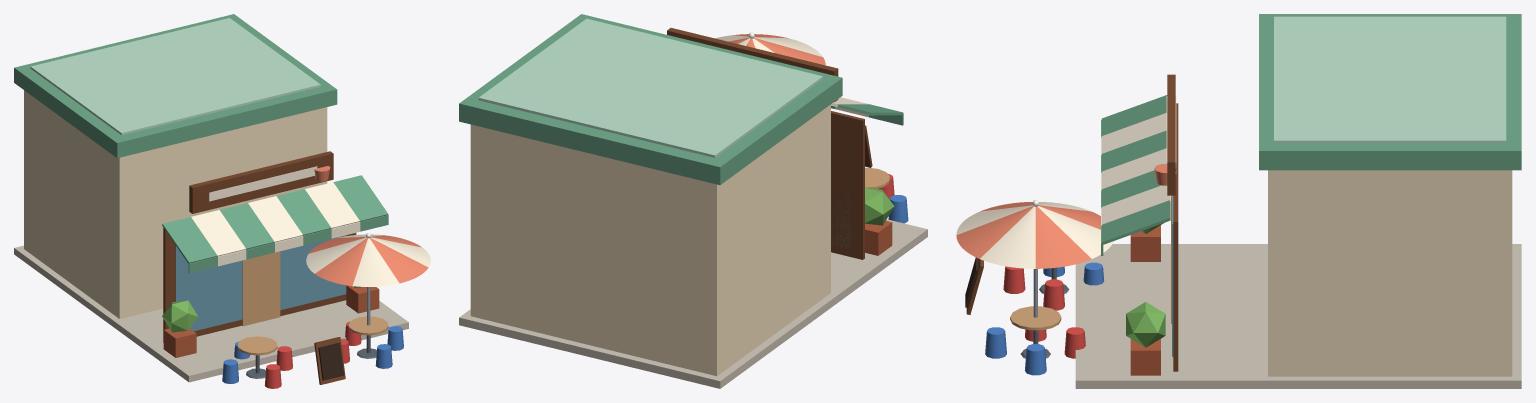
File: cafe-01.glb
The picture shows the model from 3 angles, left to right: view 1: azimuth 30°, elevation 25°; view 2: azimuth 150°, elevation 25°; view 3: azimuth 270°, elevation 25°; orthographic projection. The views are drawn at different scales.
Visible parts, largest first — view 1: Building, Roof, Awning, Shopfront, Base, Umbrella, Sign, Terrace, Planters, Menu; view 2: Building, Roof, Base, Shopfront, Planters, Umbrella, Sign, Terrace, Awning; view 3: Building, Roof, Base, Umbrella, Awning, Terrace, Planters, Shopfront, Sign, Menu.
Part boxes in pixels (box(x1,y1,x2,y2)): Building: box(24, 90, 327, 318); Roof: box(14, 14, 337, 158); Awning: box(162, 175, 388, 273); Shopfront: box(163, 228, 356, 342); Base: box(14, 245, 408, 382); Umbrella: box(306, 233, 430, 325); Sign: box(189, 151, 333, 213); Terrace: box(222, 316, 403, 388); Planters: box(162, 285, 379, 357); Menu: box(314, 337, 345, 384); Building: box(470, 104, 830, 376); Roof: box(459, 14, 842, 184); Base: box(459, 219, 927, 388); Shopfront: box(831, 111, 864, 259); Planters: box(865, 187, 894, 255); Umbrella: box(715, 32, 825, 65); Sign: box(667, 28, 838, 102); Terrace: box(865, 167, 908, 223); Awning: box(831, 97, 903, 125); Building: box(1268, 170, 1512, 376); Roof: box(1259, 14, 1521, 170); Base: box(1075, 244, 1521, 388); Umbrella: box(956, 200, 1113, 317); Awning: box(1101, 95, 1170, 255); Terrace: box(985, 262, 1103, 375); Planters: box(1126, 223, 1165, 375); Shopfront: box(1171, 103, 1178, 371); Sign: box(1154, 74, 1176, 195); Menu: box(965, 257, 983, 314).
Size of the model in its own units: 5.3 by 4.37 by 9.25.
